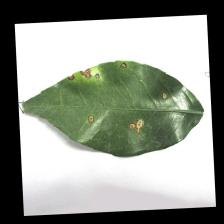canker: (57, 54, 178, 142)
